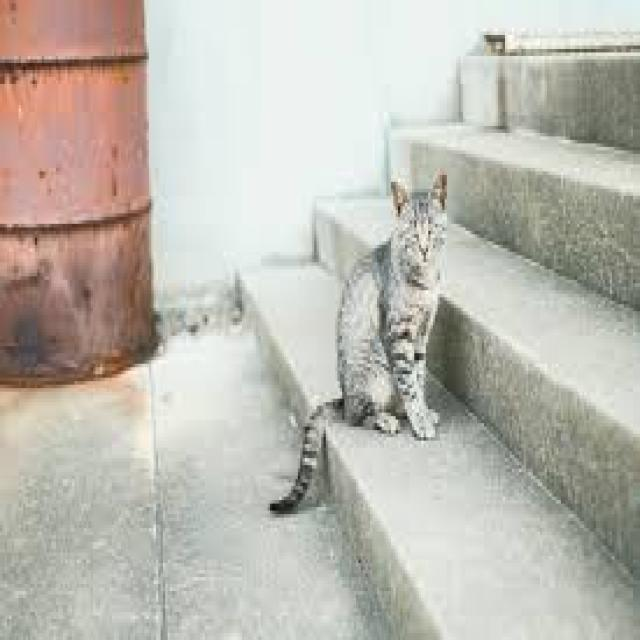cat: (270, 175, 446, 512)
